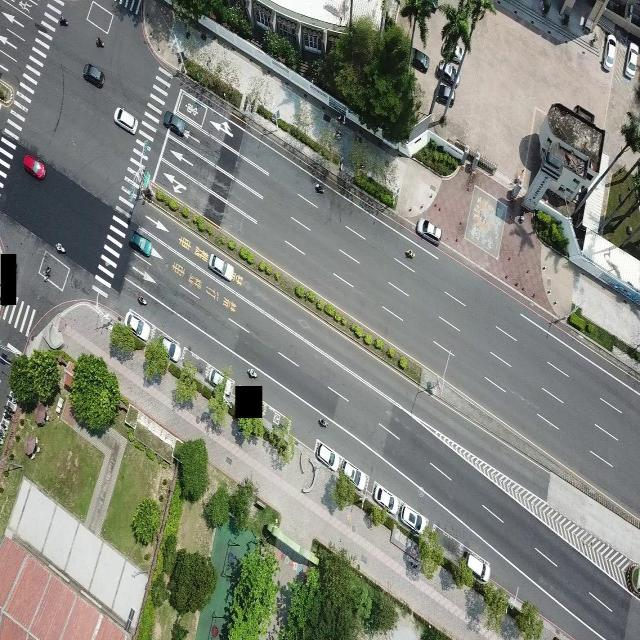bike: (312, 177, 326, 199), (94, 33, 108, 52), (59, 12, 71, 32), (404, 248, 414, 258)
car: (371, 479, 397, 514), (124, 306, 149, 342), (340, 457, 364, 493), (464, 548, 490, 581), (398, 504, 426, 534), (314, 437, 338, 469), (209, 253, 235, 282), (113, 106, 139, 134), (162, 110, 188, 138), (416, 217, 442, 244), (129, 230, 153, 257), (23, 153, 46, 180), (82, 61, 105, 88), (624, 41, 640, 78), (602, 32, 616, 71)
